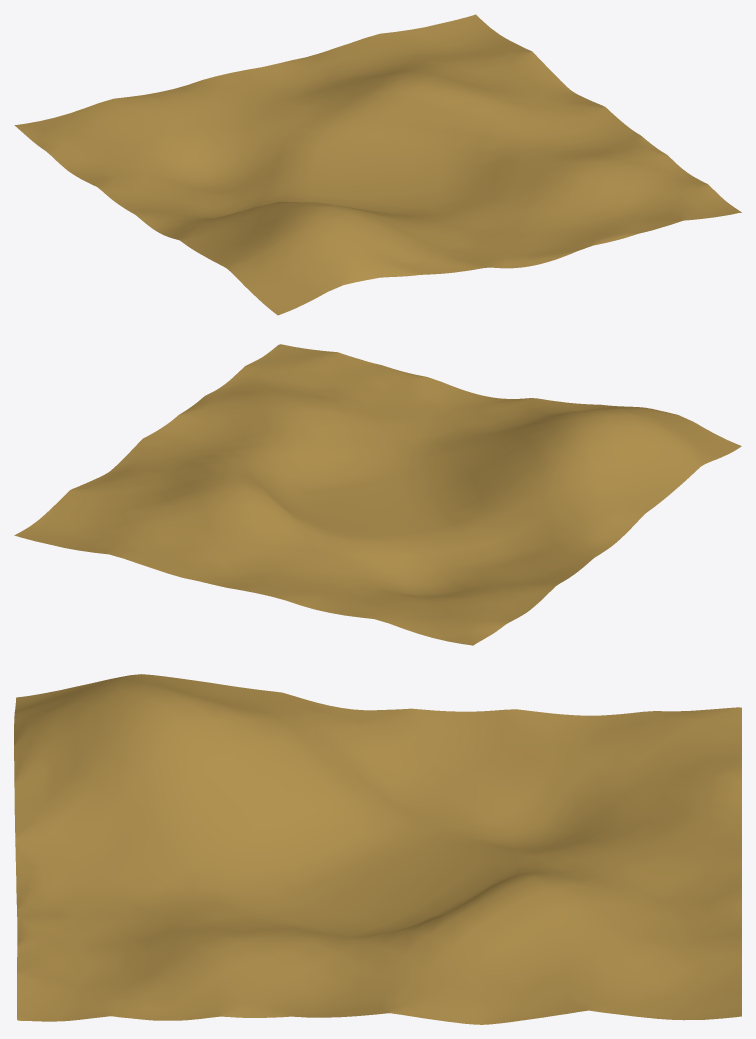
The model's file is Tesselate_Decimate1_Collider.fbx.
3 views of the same model, one above another, from view 1: azimuth 30°, elevation 25°; view 2: azimuth 150°, elevation 25°; view 3: azimuth 270°, elevation 25° (orthographic). The views are drawn at different scales.
Visible parts, largest first — view 1: Plane; view 2: Plane; view 3: Plane.
Boxes of the visible parts, x1,y1,x2,y2 form: Plane: (14,14,741,315); Plane: (14,344,741,645); Plane: (14,674,741,1024).
Bounding box in the file's own units: 5089 × 824 × 5021.
